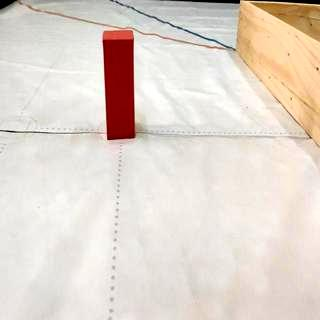redbox: (103, 30, 134, 140)
